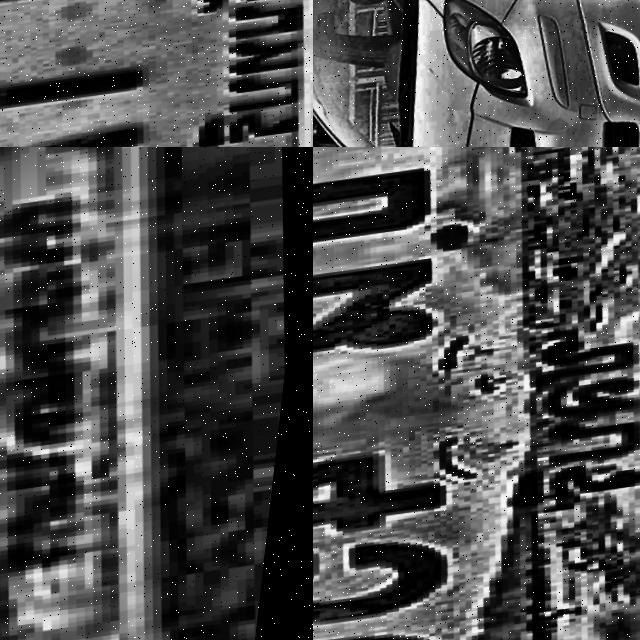license-plate: (313, 147, 640, 640), (0, 147, 313, 640), (0, 0, 313, 147)
